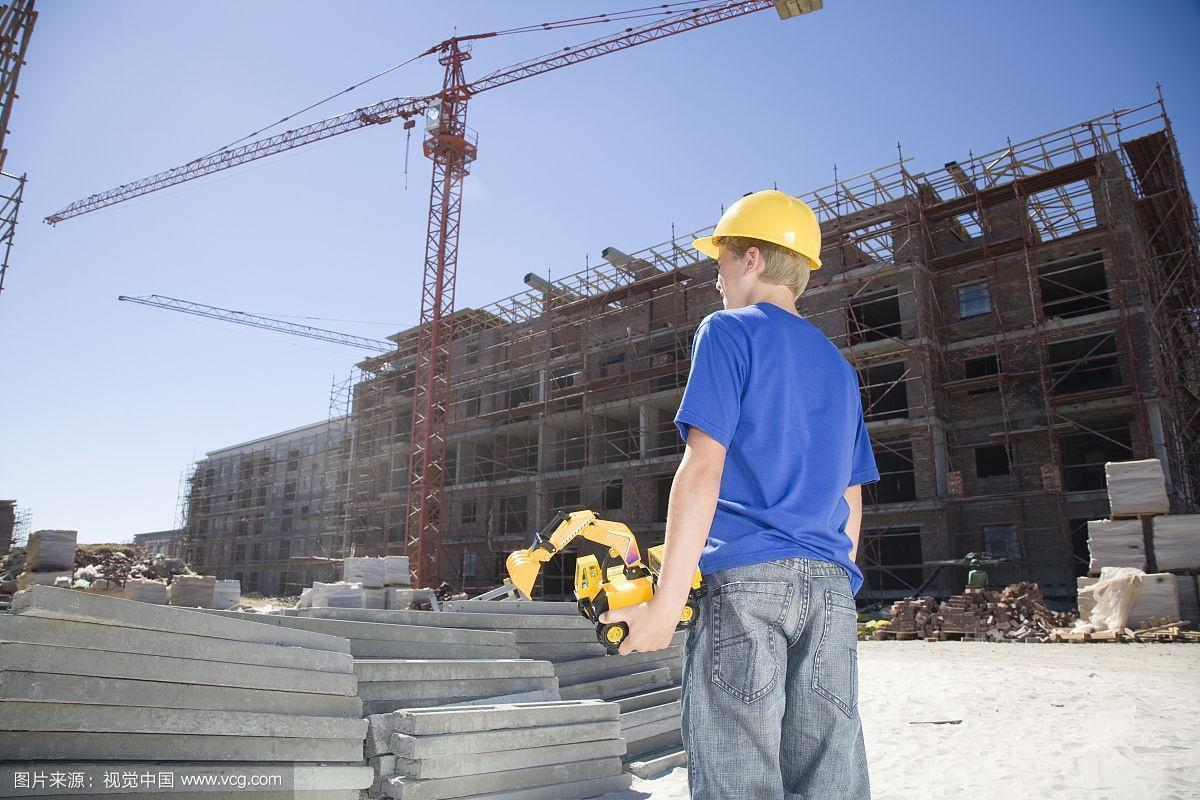Boots: (686, 182, 833, 277)
Ear-protection: (583, 297, 895, 798)
